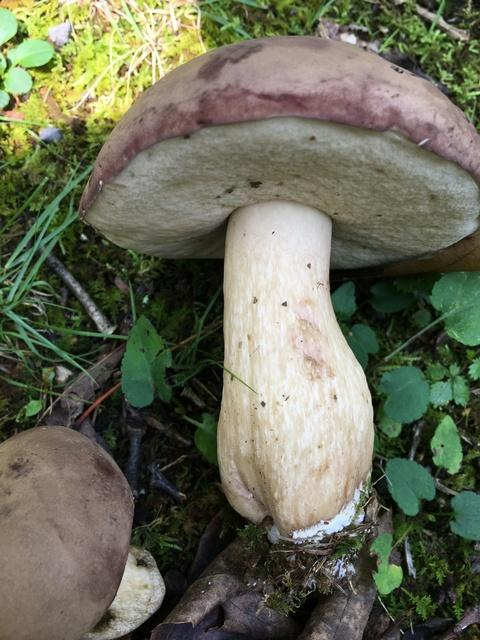poisonous_mushroom: (76, 33, 478, 544)
